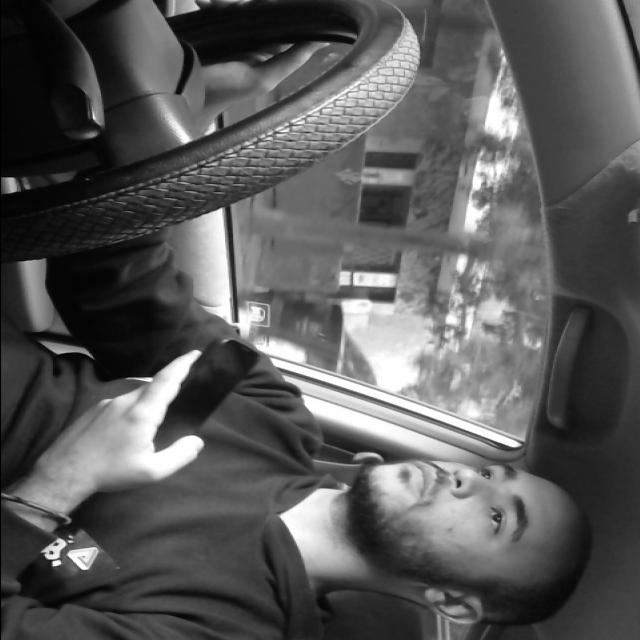mobile use: (152, 338, 266, 458)
